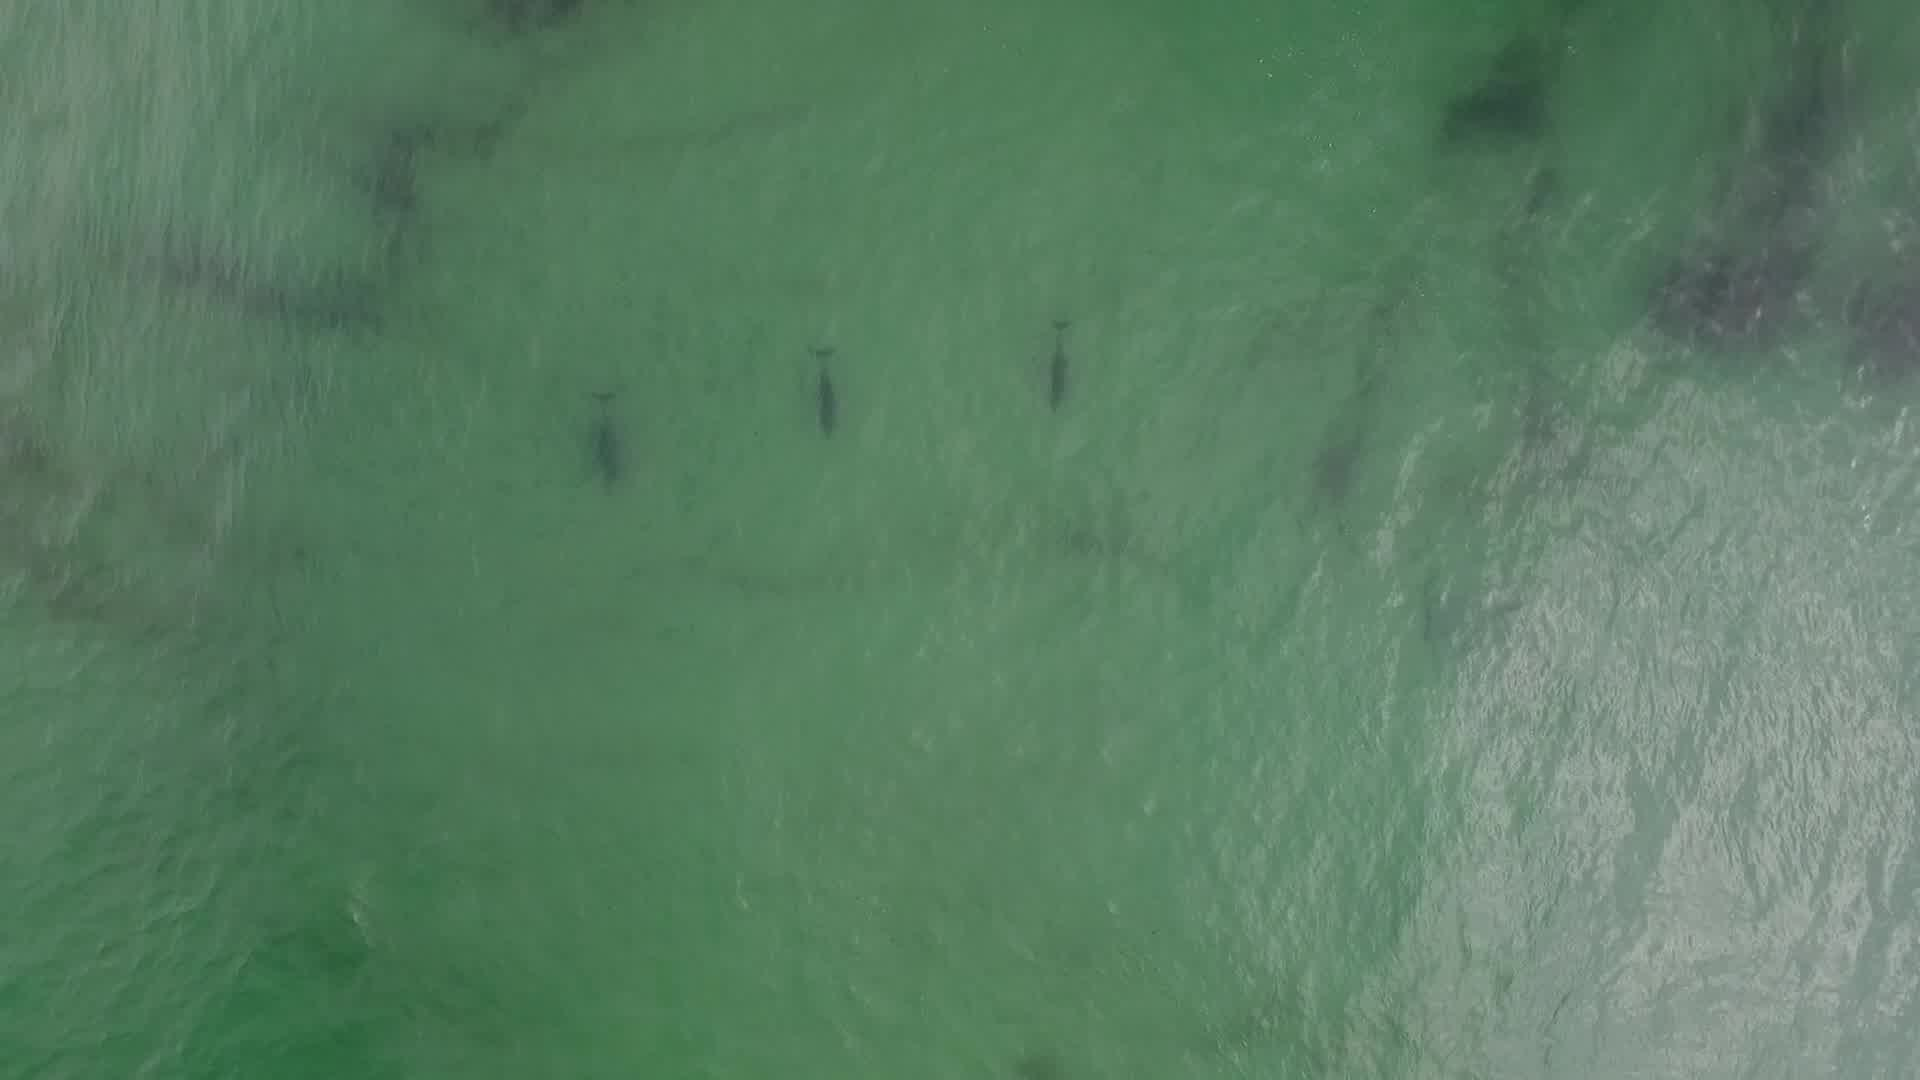dolphin: (798, 320, 865, 465), (1027, 301, 1098, 433), (567, 365, 632, 509)
